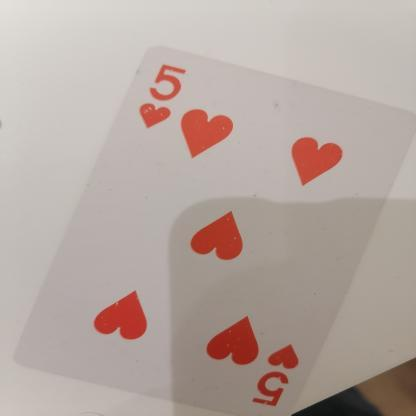5H: (124, 61, 202, 136), (248, 335, 312, 410)
